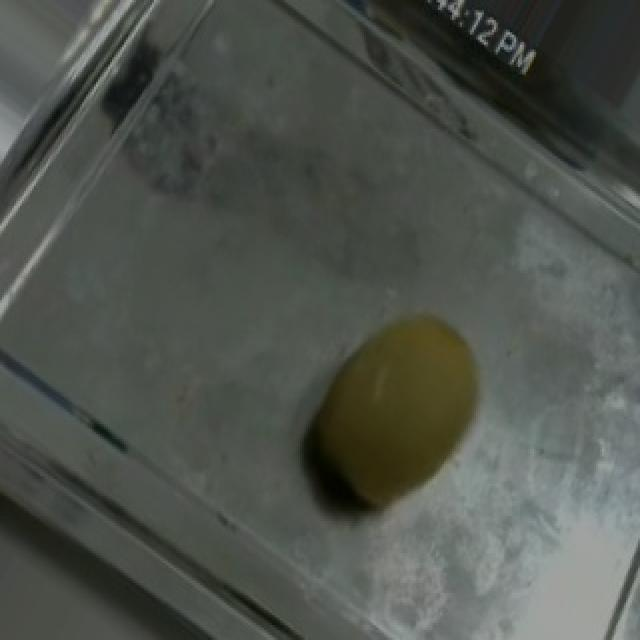Fruit: (270, 285, 518, 541)
